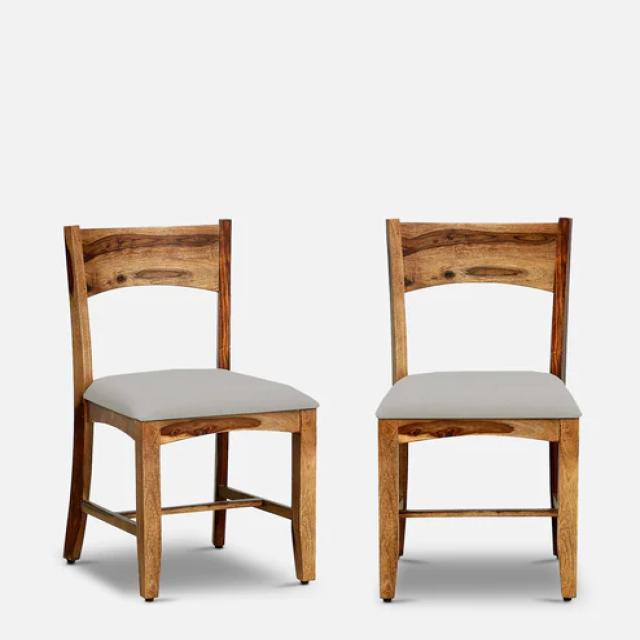obstacle: (40, 197, 333, 606), (363, 194, 615, 627)
